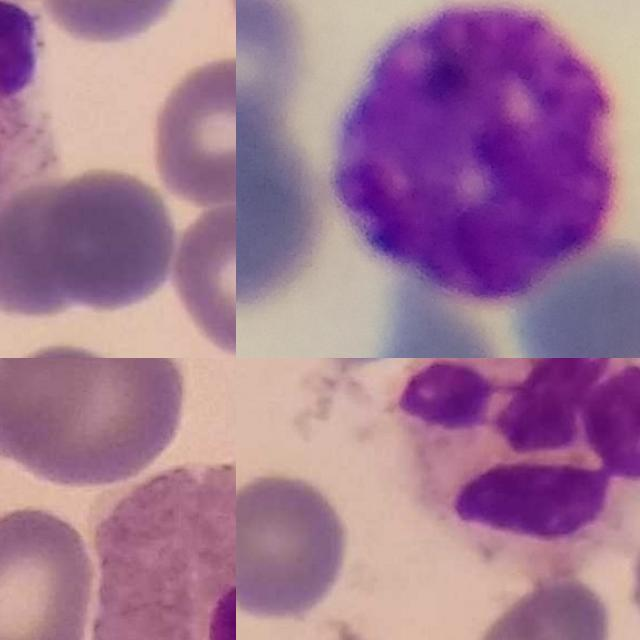Basophil: (334, 0, 616, 305)
Eosinophil: (92, 463, 236, 640)
Neutrophil: (404, 358, 640, 577)
